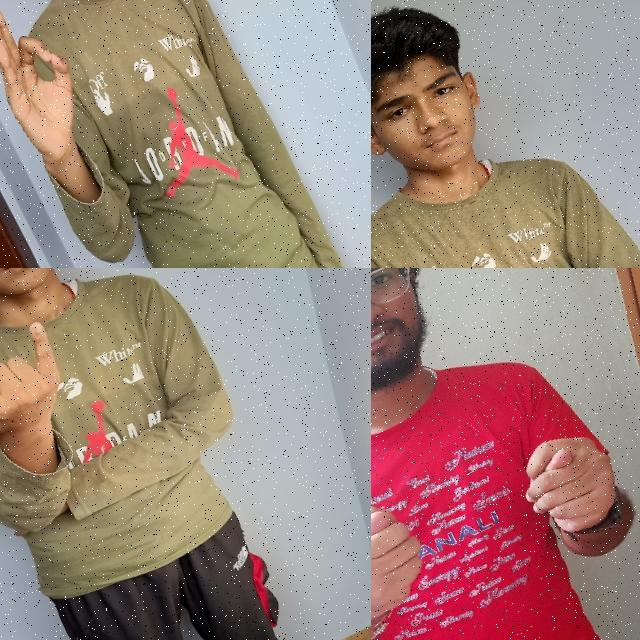Corna: (0, 288, 97, 483)
Dulya: (499, 407, 640, 562), (371, 482, 452, 640)
Okay: (0, 0, 125, 196)
